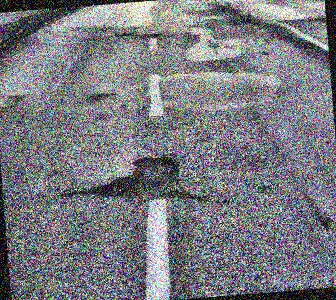pothole: (89, 152, 187, 205), (144, 29, 161, 39), (113, 30, 132, 37)
